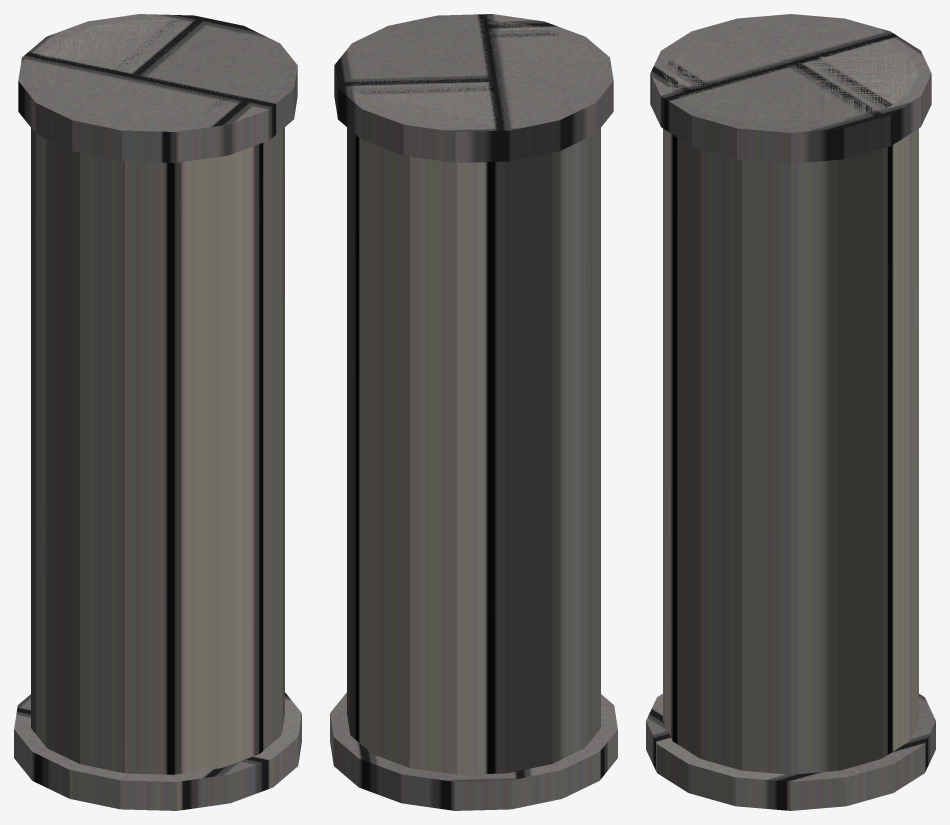
The model's file is CastleTowerPillar.glb.
The picture shows the model from 3 angles, left to right: view 1: azimuth 30°, elevation 25°; view 2: azimuth 150°, elevation 25°; view 3: azimuth 270°, elevation 25°; orthographic projection.
Parts seen in each view (by area): view 1: CastleTowerPillar; view 2: CastleTowerPillar; view 3: CastleTowerPillar.
Boxes of the visible parts, x1,y1,x2,y2 form: CastleTowerPillar: (14,14,301,810); CastleTowerPillar: (330,14,617,810); CastleTowerPillar: (646,14,935,810).
Size of the model in its own units: 1.36 by 3.5 by 1.36.
Materials: 2 (2 with a texture image).
